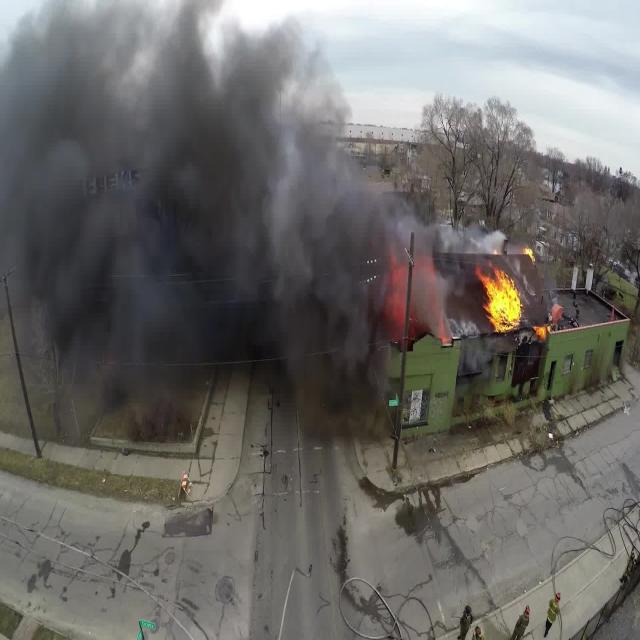Fire: (476, 248, 550, 341)
Smoke: (0, 0, 449, 424)
